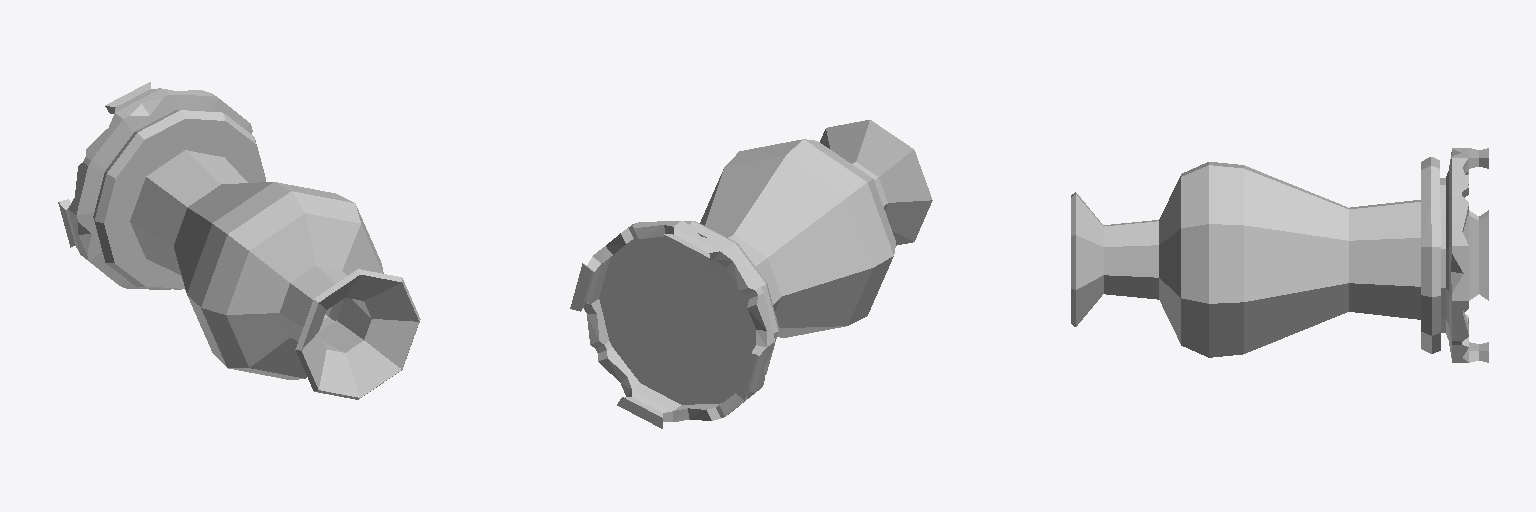
The model's file is vase.obj.
3 views of the same model, side by side, from view 1: azimuth 30°, elevation 25°; view 2: azimuth 150°, elevation 25°; view 3: azimuth 270°, elevation 25° (orthographic).
Parts seen in each view (by area): view 1: Vase_Low, Base_Low; view 2: Vase_Low, Base_Low; view 3: Vase_Low, Base_Low.
Part boxes in pixels (x1,y1,x2,y2): Vase_Low: (130, 150, 420, 399); Base_Low: (58, 82, 265, 289); Vase_Low: (700, 120, 932, 337); Base_Low: (570, 221, 778, 428); Vase_Low: (1071, 162, 1420, 357); Base_Low: (1421, 148, 1488, 362).
Size of the model in its own units: 18.44 by 18.55 by 35.69.